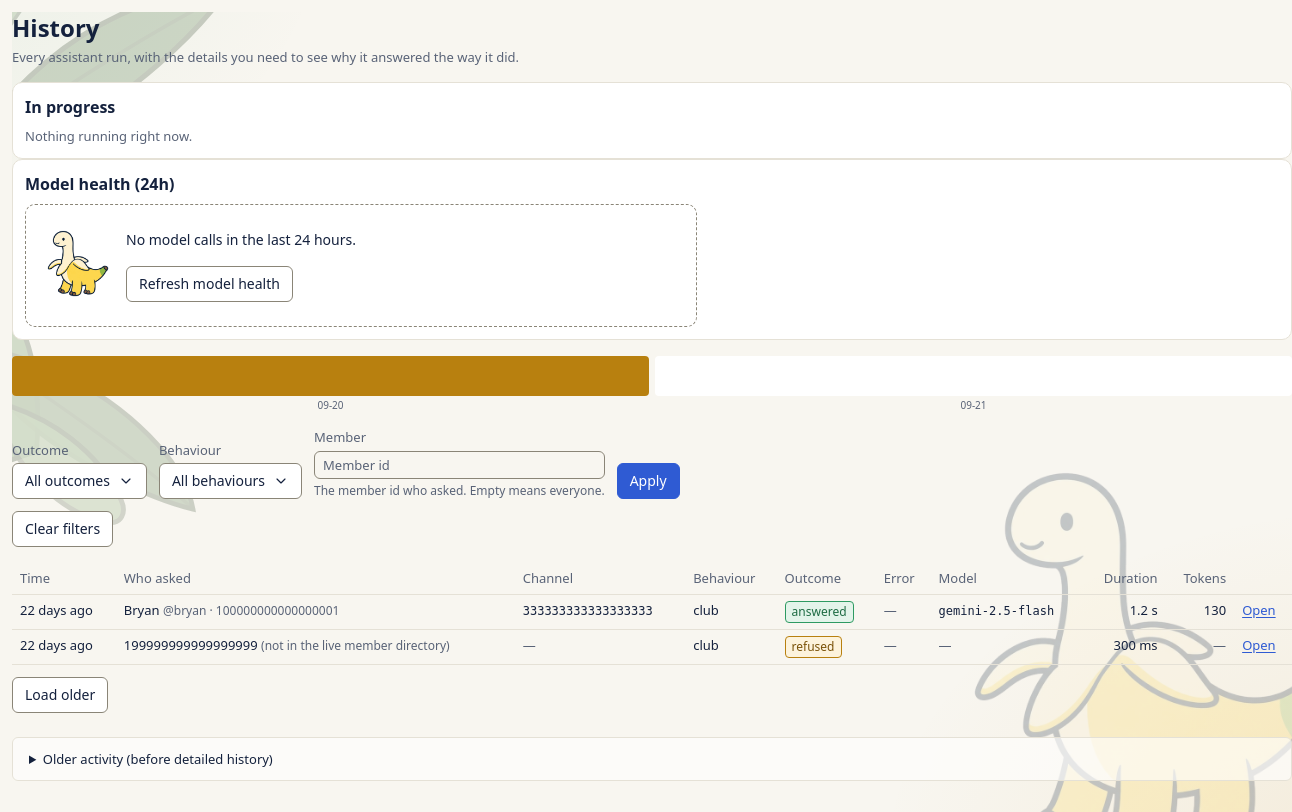
it: AssistantHistoryPage › loads older runs on demand and appends them
Expected: the text "gemini-2.5-flash" is shown, [938,604,1054,618]
Click the button "Load older": click(60, 695) [12,677,108,713]
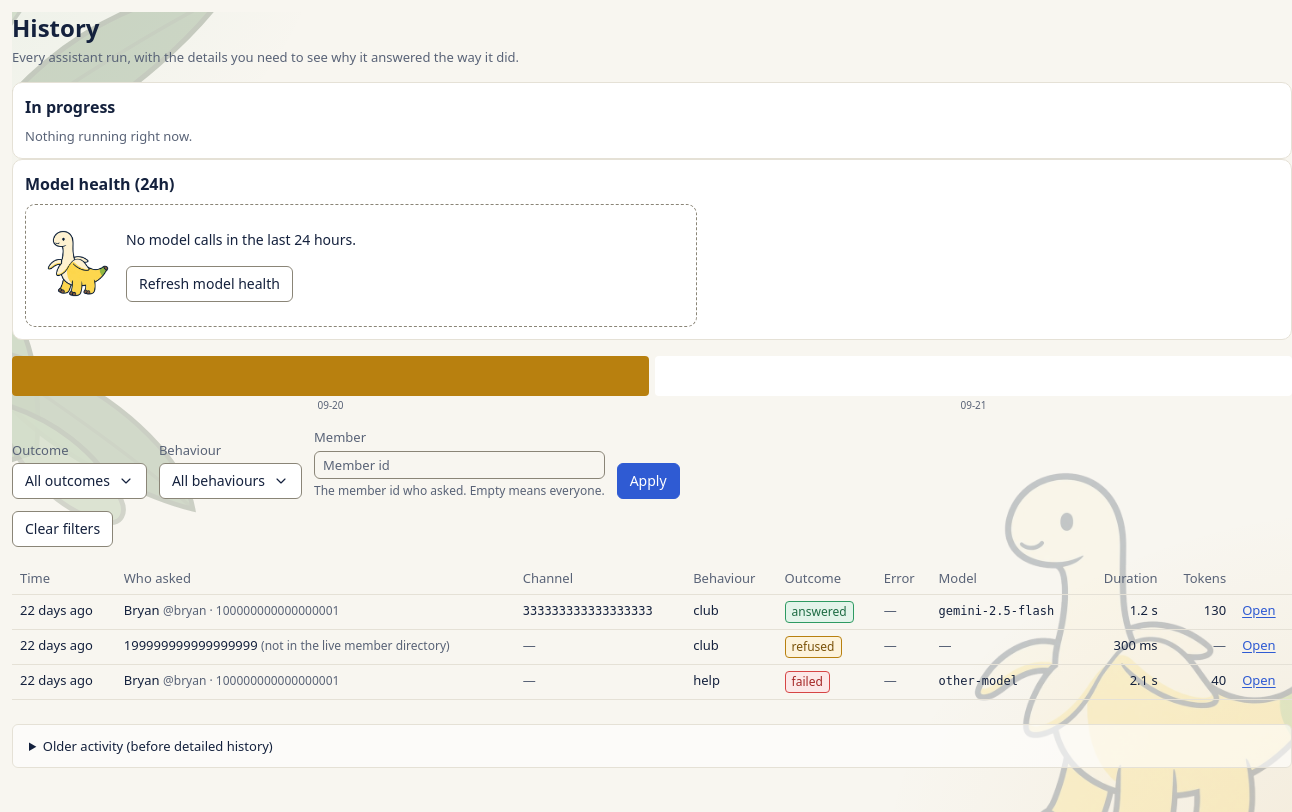
Expected: the text "other-model" is shown, [938,674,1018,688]
Expected: the text "help" is shown, [685,664,777,699]
Expected: the button "Load older" is gone
